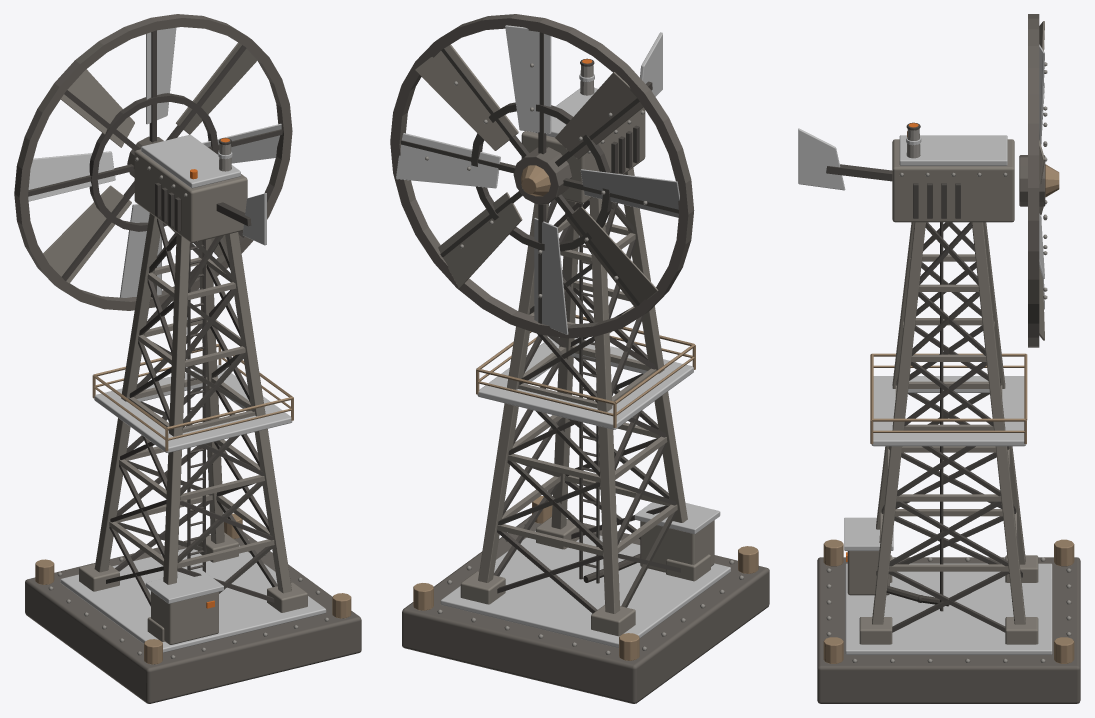
Rendered from crucible_wind_turbine.glb.
The picture shows the model from 3 angles, left to right: view 1: azimuth 30°, elevation 25°; view 2: azimuth 150°, elevation 25°; view 3: azimuth 270°, elevation 25°; orthographic projection. The views are drawn at different scales.
Parts seen in each view (by area): view 1: Body, Rotor_Z; view 2: Body, Rotor_Z; view 3: Body, Rotor_Z.
Part boxes in pixels (x1,y1,x2,y2): Body: [25, 134, 361, 703]; Rotor_Z: [14, 14, 292, 310]; Body: [402, 32, 769, 703]; Rotor_Z: [390, 14, 694, 338]; Body: [798, 122, 1080, 703]; Rotor_Z: [1019, 14, 1059, 347].
Bounding box in the file's own units: 7.1 × 14.55 × 6.
